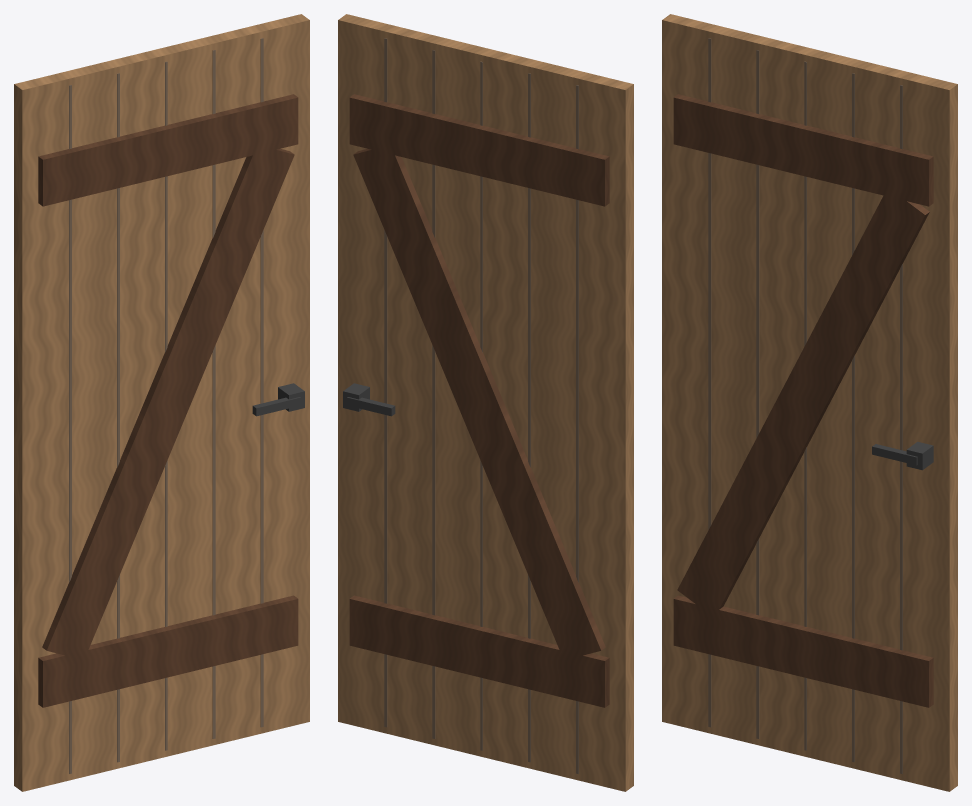
The model's file is mlo_door_barn_oak.glb.
3 views of the same model, side by side, from view 1: azimuth 30°, elevation 25°; view 2: azimuth 150°, elevation 25°; view 3: azimuth 330°, elevation 25° (orthographic).
Visible parts, largest first — view 1: Door_Barn_Oak; view 2: Door_Barn_Oak; view 3: Door_Barn_Oak.
Boxes of the visible parts, x1,y1,x2,y2 form: Door_Barn_Oak: (14,14,309,791); Door_Barn_Oak: (338,14,633,791); Door_Barn_Oak: (662,14,957,791).
Size of the model in its own units: 0.9 by 2.1 by 0.175.
Materials: 4 (2 with a texture image).
